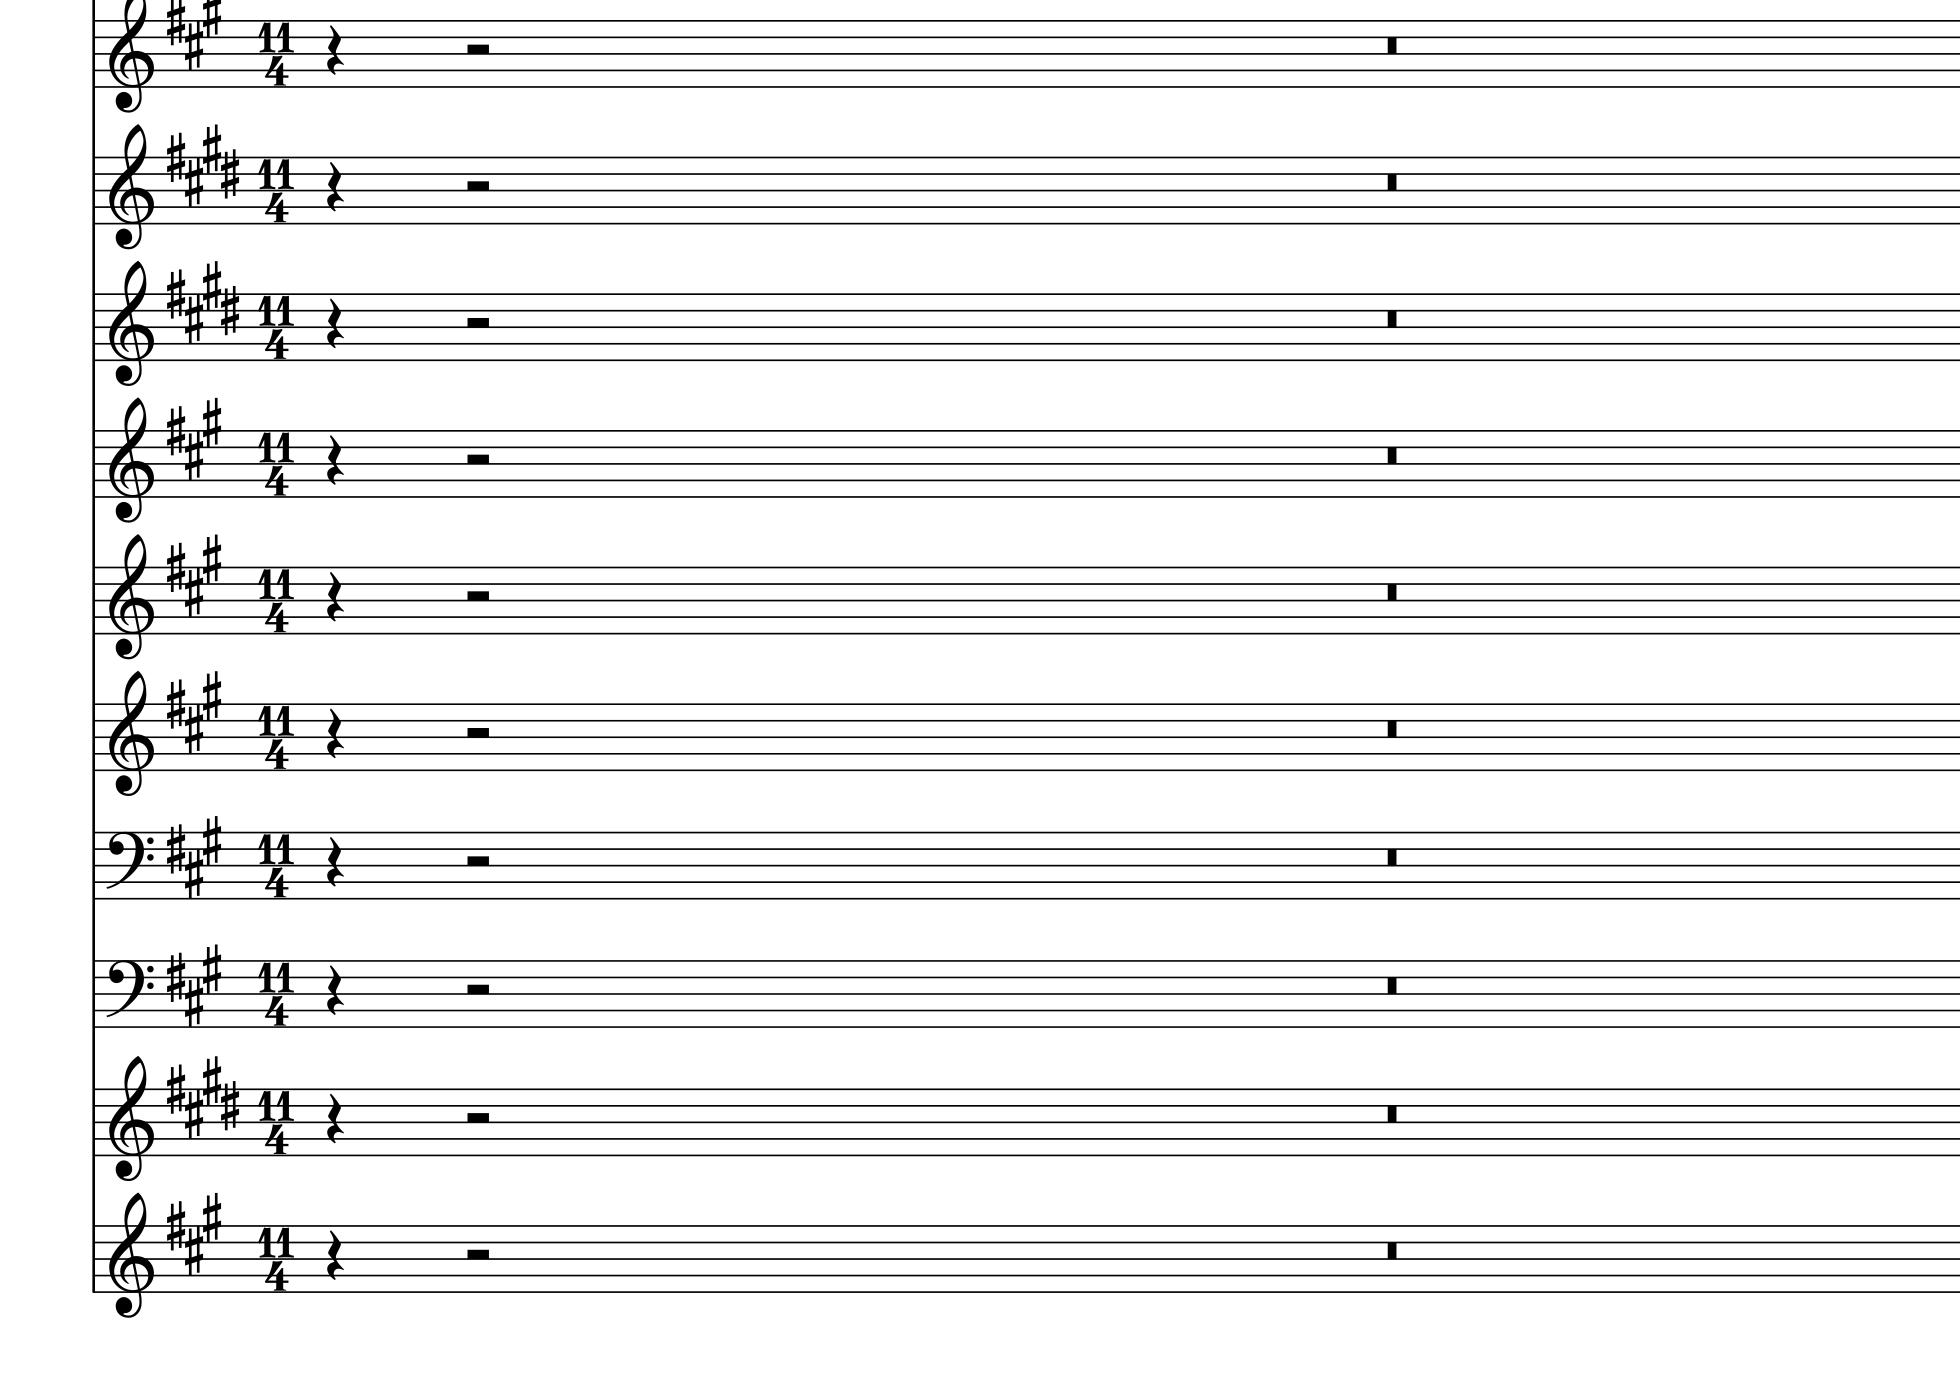1: (274, 565, 295, 601), (274, 958, 295, 994), (274, 19, 295, 54), (274, 156, 295, 190), (274, 831, 295, 865), (274, 1087, 295, 1122), (274, 292, 295, 325), (274, 703, 295, 736), (256, 19, 276, 54), (276, 429, 295, 463), (276, 1224, 295, 1258), (256, 565, 274, 600), (256, 831, 274, 865), (256, 1087, 274, 1122), (256, 157, 274, 190), (256, 430, 274, 463), (256, 703, 274, 736), (256, 960, 274, 993), (256, 1225, 274, 1258)
4: (259, 294, 294, 351), (259, 1257, 294, 1291), (261, 993, 292, 1026), (262, 325, 292, 360), (262, 52, 292, 85), (262, 463, 292, 496), (262, 1120, 292, 1153), (262, 190, 292, 222), (262, 600, 291, 633), (262, 736, 291, 769), (262, 865, 291, 898), (256, 292, 274, 327)
A_S: (165, 667, 223, 754), (163, 397, 223, 480), (165, 532, 223, 616), (163, 943, 223, 1024), (165, 1191, 223, 1273), (165, 816, 223, 897), (165, 1, 223, 69)
E_S: (163, 124, 244, 207), (163, 1056, 244, 1138), (163, 259, 243, 343)
Fclef: (105, 829, 156, 901), (105, 958, 154, 1029)
Gclef: (106, 669, 157, 798), (106, 259, 156, 388), (106, 532, 156, 661), (106, 1054, 156, 1183), (106, 1191, 156, 1320), (106, 123, 156, 250), (106, 397, 156, 525), (108, 4, 154, 114)
Rests2: (460, 177, 493, 196), (460, 450, 493, 469), (460, 723, 493, 742), (460, 852, 493, 871), (460, 979, 493, 999), (460, 1108, 493, 1128), (460, 1245, 493, 1264), (462, 313, 493, 333), (462, 586, 493, 606), (460, 40, 493, 58)
Rests4: (322, 961, 346, 1018), (322, 295, 346, 351), (322, 834, 346, 889), (322, 1090, 346, 1146), (322, 22, 346, 76), (322, 160, 346, 214), (322, 433, 346, 487), (322, 570, 346, 624), (322, 1228, 346, 1282), (324, 706, 346, 760)
Single_barline: (87, 19, 102, 88), (87, 832, 102, 898), (87, 961, 102, 1027), (87, 292, 100, 361), (87, 1089, 100, 1156), (87, 157, 100, 223), (87, 430, 100, 496), (87, 567, 100, 633), (87, 703, 100, 769), (87, 1225, 100, 1291)
TimeSig: (256, 292, 295, 361), (256, 565, 295, 634), (256, 1087, 295, 1156), (256, 19, 295, 87), (256, 156, 295, 223), (256, 429, 295, 496), (256, 831, 295, 898), (256, 960, 295, 1027), (256, 1224, 295, 1291), (256, 703, 295, 769)
